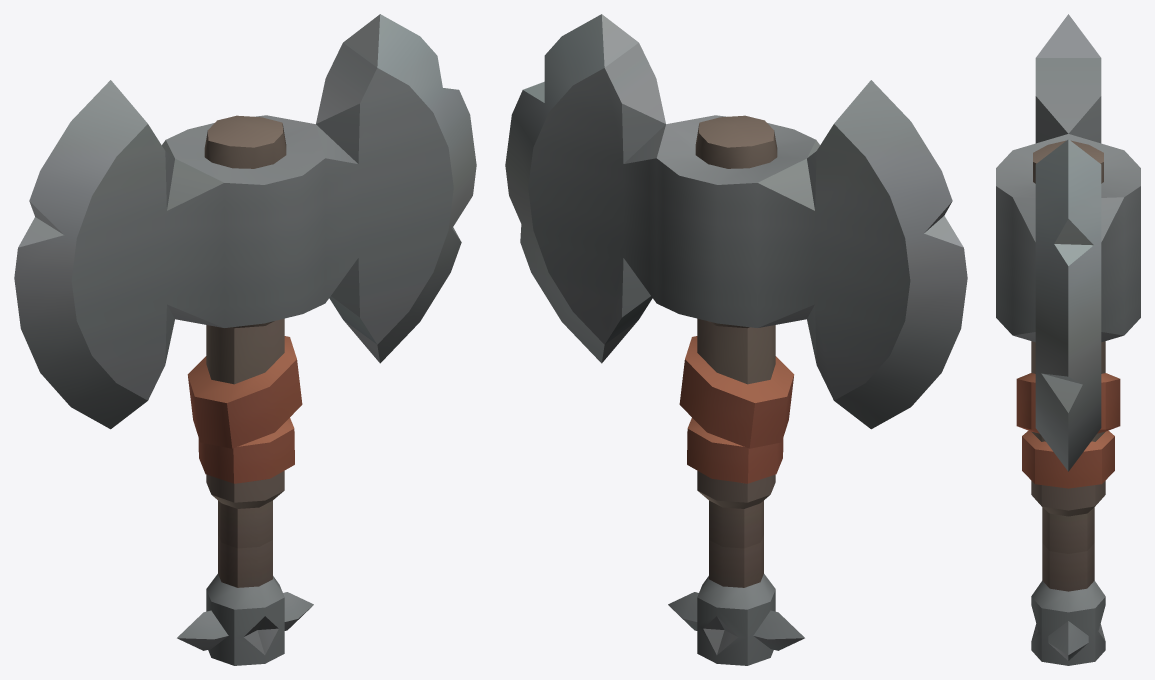
The model's file is w_axe.glb.
3 views of the same model, side by side, from view 1: azimuth 30°, elevation 25°; view 2: azimuth 150°, elevation 25°; view 3: azimuth 270°, elevation 25° (orthographic). The views are drawn at different scales.
Visible parts, largest first — view 1: Skeleton_Axe; view 2: Skeleton_Axe; view 3: Skeleton_Axe.
Boxes of the visible parts, x1,y1,x2,y2 form: Skeleton_Axe: [14, 14, 476, 665]; Skeleton_Axe: [505, 14, 967, 665]; Skeleton_Axe: [996, 14, 1140, 665].
Bounding box in the file's own units: 0.9885 × 1.25 × 0.2818.
1 material, 1 textured.
